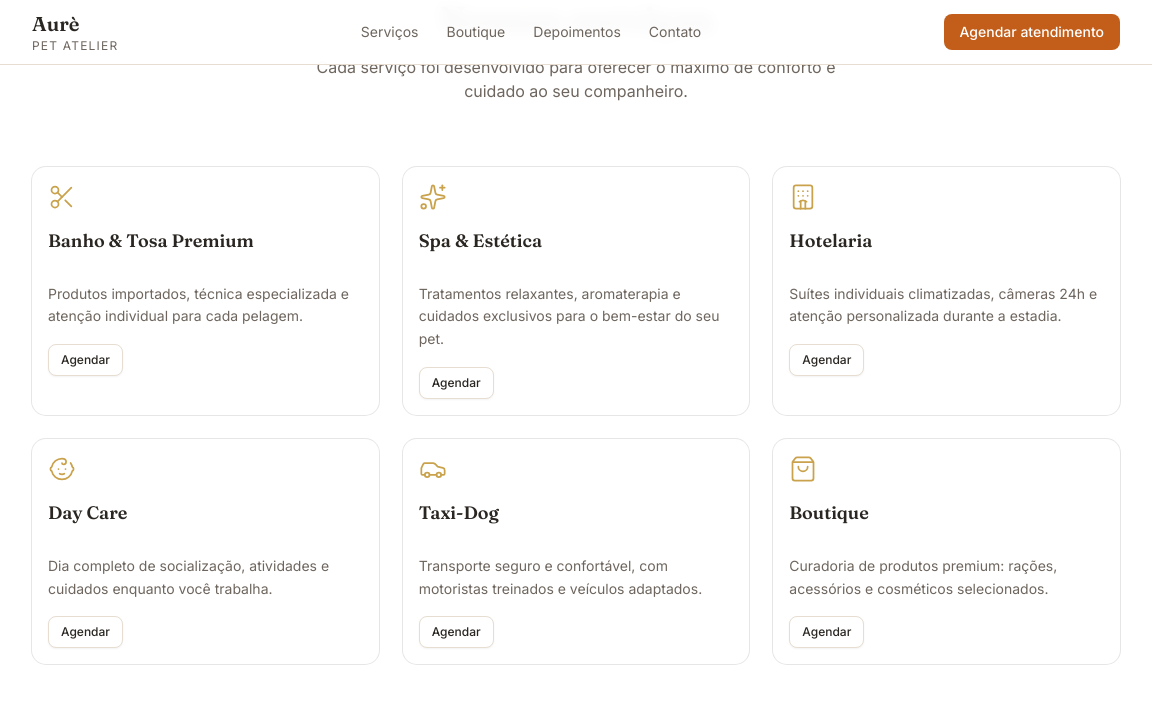
Test: HomePage › opens booking modal with service when services section button is clicked
(page scrolled)
Click the button "Agendar" below "Banho & Tosa Premium": (86, 360) left=48, top=344, right=123, bottom=376
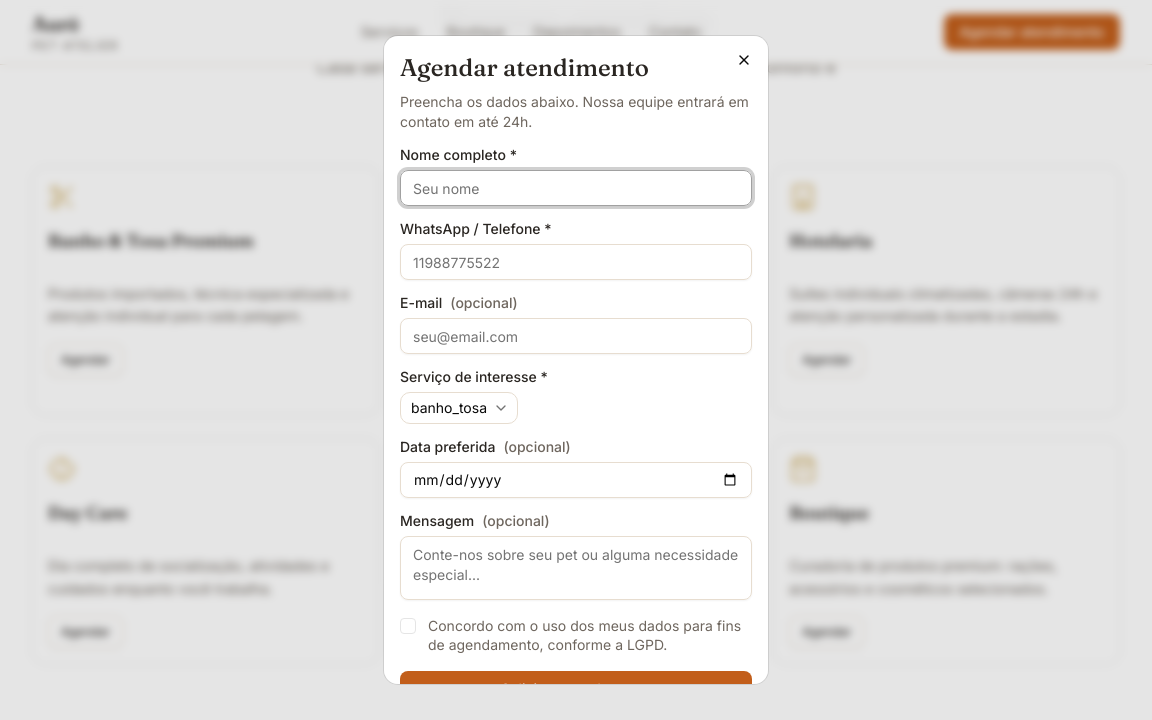
Check: the text "Nossa equipe entrará em contato" is shown, box left=400, top=93, right=749, bottom=130
